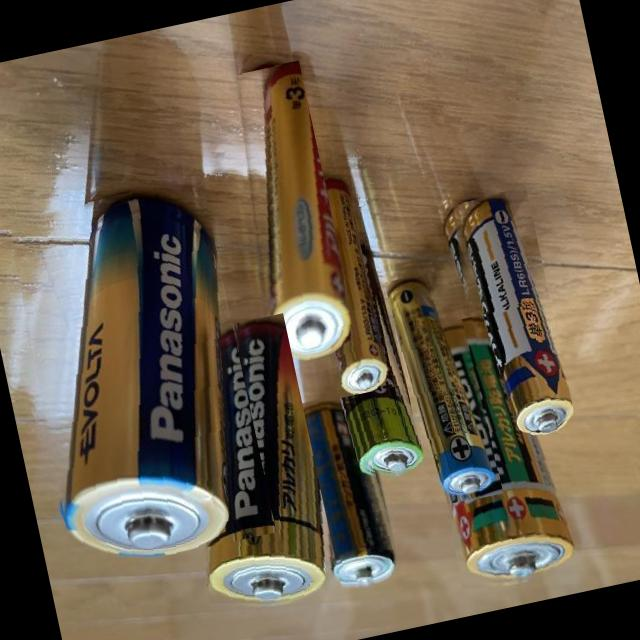Hazard: (0, 172, 274, 574), (152, 312, 342, 621), (406, 304, 586, 598), (207, 58, 359, 368), (430, 184, 577, 452), (384, 266, 502, 507), (315, 235, 429, 482), (289, 386, 405, 595), (290, 168, 393, 397)
